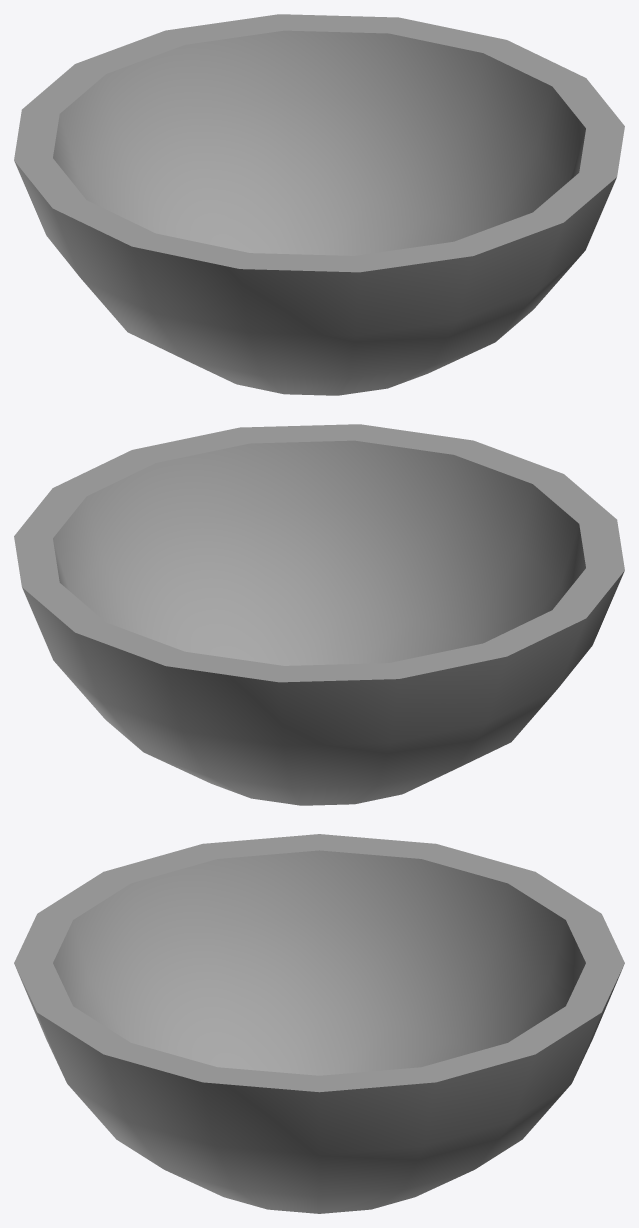
The model's file is Bowl_01.fbx.
The picture shows the model from 3 angles, top to bottom: view 1: azimuth 30°, elevation 25°; view 2: azimuth 150°, elevation 25°; view 3: azimuth 270°, elevation 25°; orthographic projection.
Visible parts, largest first — view 1: Bowl_01; view 2: Bowl_01; view 3: Bowl_01.
Part boxes in pixels (x1=…): Bowl_01: x1=14, y1=14, x2=624, y2=395; Bowl_01: x1=14, y1=424, x2=624, y2=805; Bowl_01: x1=14, y1=834, x2=624, y2=1213.
Bounding box in the file's own units: 0.298 × 0.1042 × 0.298.
